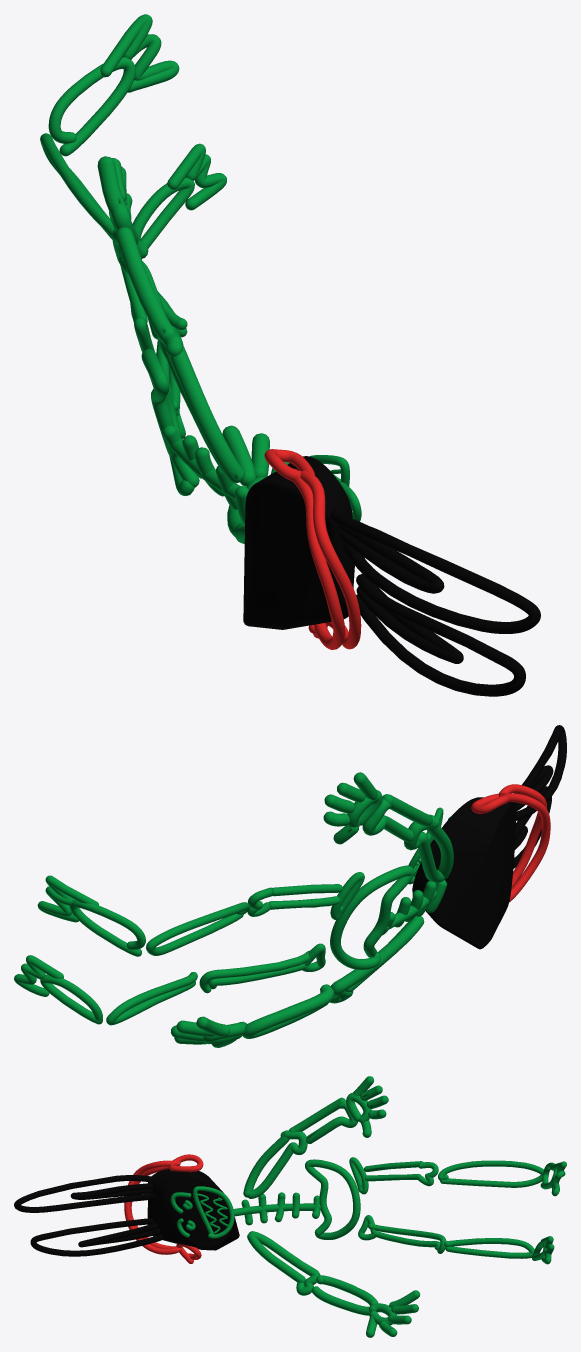
File: heem.glb
The picture shows the model from 3 angles, top to bottom: view 1: azimuth 30°, elevation 25°; view 2: azimuth 150°, elevation 25°; view 3: azimuth 270°, elevation 25°; orthographic projection. The views are drawn at different scales.
Visible parts, largest first — view 1: heem; view 2: heem; view 3: heem.
Part boxes in pixels (box(x1,y1,x2,y2)): heem: box(40, 14, 540, 696); heem: box(14, 725, 566, 1047); heem: box(14, 1076, 566, 1337).
Size of the model in its own units: 0.7809 by 0.9787 by 2.3.
Materials: 1 (1 with a texture image).
